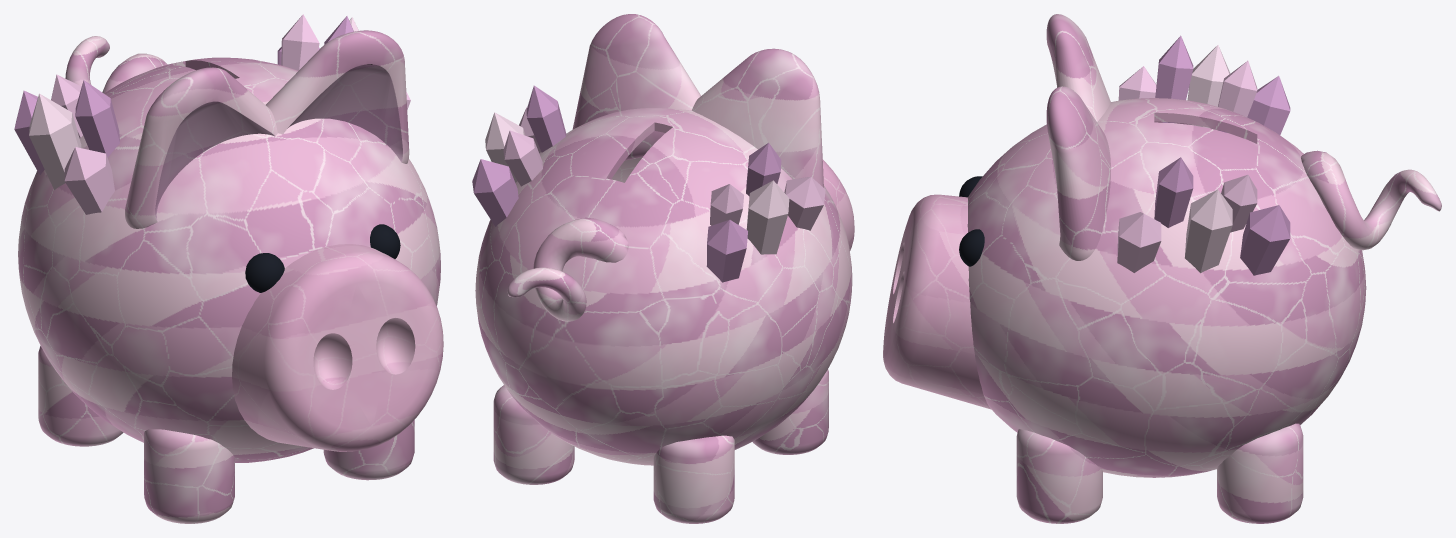
Rendered from quartz-og-v2-complete.fbx.
The picture shows the model from 3 angles, left to right: view 1: azimuth 30°, elevation 25°; view 2: azimuth 150°, elevation 25°; view 3: azimuth 270°, elevation 25°; orthographic projection. The views are drawn at different scales.
Visible parts, largest first — view 1: Body, Snout, Ears, Legs, QuartzCluster_-1_2, QuartzCluster_-1_0, Tail, QuartzCluster_-1_1, EyePreview, QuartzCluster_1_3, QuartzCluster_-1_4, QuartzCluster_-1_3; view 2: Body, Ears, Legs, Tail, QuartzCluster_-1_2, QuartzCluster_1_4, QuartzCluster_-1_4, QuartzCluster_1_1, QuartzCluster_-1_0, QuartzCluster_1_3, QuartzCluster_-1_1, QuartzCluster_-1_3 (+2 smaller); view 3: Body, Snout, Legs, Ears, Tail, QuartzCluster_1_2, QuartzCluster_1_4, QuartzCluster_1_0, QuartzCluster_1_1, QuartzCluster_-1_1, QuartzCluster_-1_2, QuartzCluster_-1_4 (+4 smaller).
Boxes of the visible parts, x1,y1,x2,y2 form: Body: (18,57,440,462); Snout: (232,244,443,451); Ears: (125,30,409,228); Legs: (38,346,414,523); QuartzCluster_-1_2: (29,93,81,189); QuartzCluster_-1_0: (64,147,114,214); Tail: (65,36,167,93); QuartzCluster_-1_1: (75,80,119,157); EyePreview: (245,224,400,292); QuartzCluster_1_3: (281,14,319,70); QuartzCluster_-1_4: (14,90,44,174); QuartzCluster_-1_3: (51,74,82,138); Body: (475,108,852,465); Ears: (572,14,823,187); Legs: (493,369,828,523); Tail: (507,217,628,321); QuartzCluster_-1_2: (746,180,789,254); QuartzCluster_1_4: (472,159,518,226); QuartzCluster_-1_4: (706,219,747,282); QuartzCluster_1_1: (526,85,566,152); QuartzCluster_-1_0: (784,177,825,230); QuartzCluster_1_3: (503,130,542,186); QuartzCluster_-1_1: (746,142,781,196); QuartzCluster_-1_3: (710,184,743,225); Body: (967,98,1366,477); Snout: (883,194,991,409); Legs: (1016,423,1303,523); Ears: (1046,14,1110,260); Tail: (1301,150,1441,250); QuartzCluster_1_2: (1184,189,1232,273); QuartzCluster_1_4: (1240,205,1290,275); QuartzCluster_1_0: (1117,212,1161,272); QuartzCluster_1_1: (1154,157,1193,227); QuartzCluster_-1_1: (1155,35,1193,122); QuartzCluster_-1_2: (1187,45,1230,128); QuartzCluster_-1_4: (1243,76,1290,138).
Size of the model in its own units: 1200 by 1397 by 1708.
23 materials, 2 textured.
